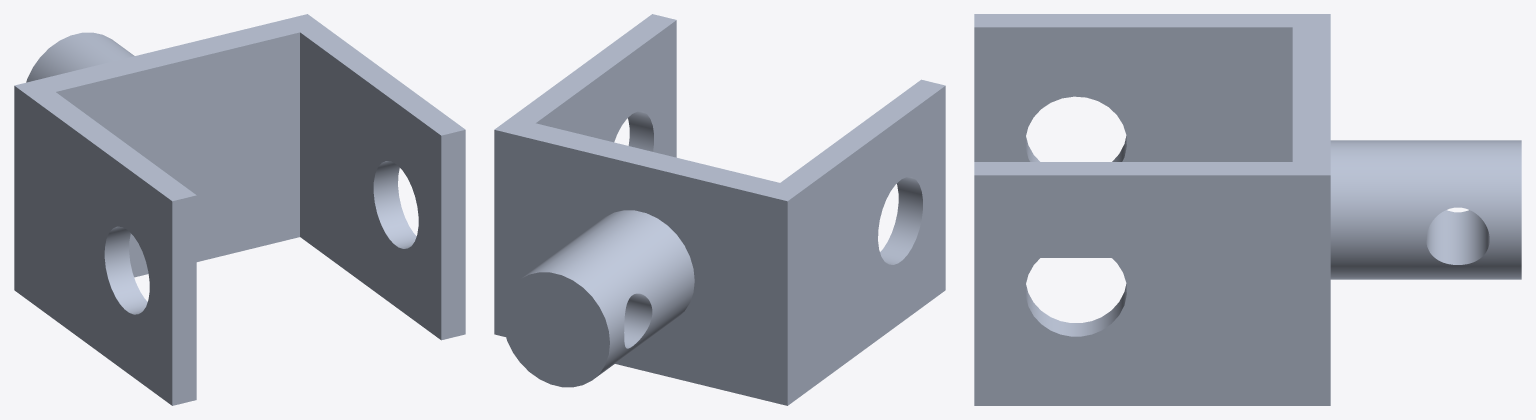
The model's file is originalclevis.glb.
3 renders of one model, left to right at view 1: azimuth 30°, elevation 25°; view 2: azimuth 150°, elevation 25°; view 3: azimuth 270°, elevation 25°, orthographic. The views are drawn at different scales.
Parts seen in each view (by area): view 1: clevis (1); view 2: clevis (1); view 3: clevis (1).
Part boxes in pixels (left/top/right/bottom): clevis (1): left=14, top=14, right=465, bottom=405; clevis (1): left=494, top=14, right=945, bottom=405; clevis (1): left=974, top=14, right=1521, bottom=405.
Bounding box in the file's own units: 0.03 × 0.02 × 0.043.
